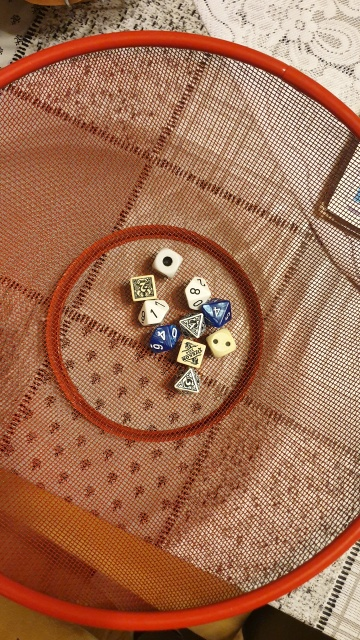d10-1: (140, 296, 170, 329)
d10-4: (144, 322, 180, 358), (201, 296, 235, 329)
d10-8: (181, 275, 213, 309)
d6-1: (153, 246, 185, 280)
d6-2: (202, 327, 238, 361)
d6p-1: (174, 338, 208, 369)
d6p-2: (127, 274, 159, 302)
d8p-2: (172, 367, 202, 395)
d8p-4: (177, 312, 207, 337)
